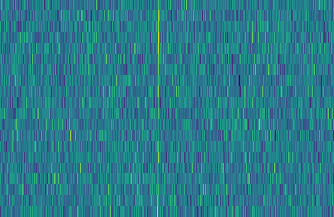signal: (153, 0, 163, 217)
